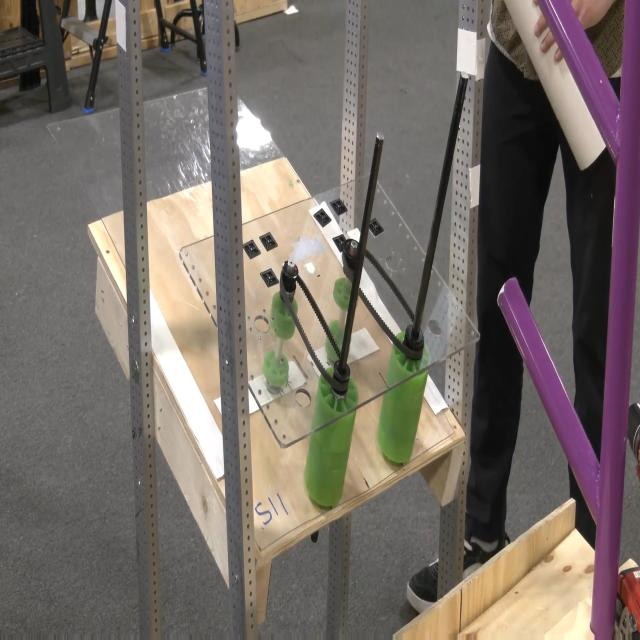Coral: (503, 0, 621, 170)
